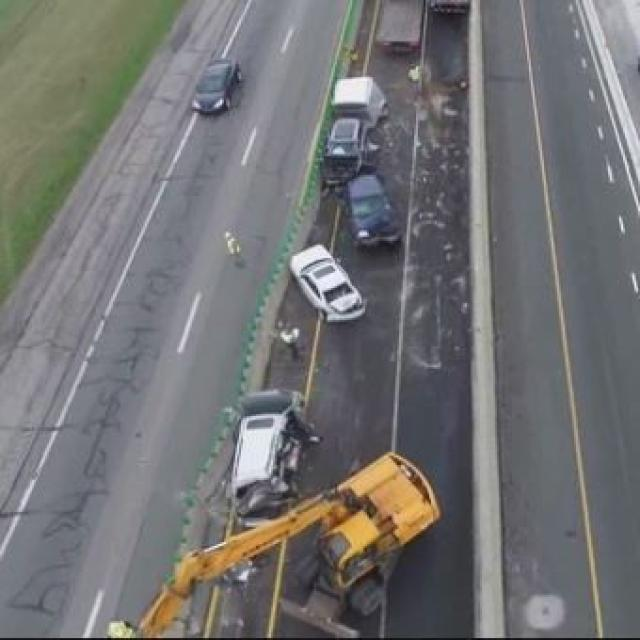traffic_incident: (216, 378, 312, 524), (316, 70, 392, 180), (284, 246, 369, 328), (333, 177, 414, 250)
